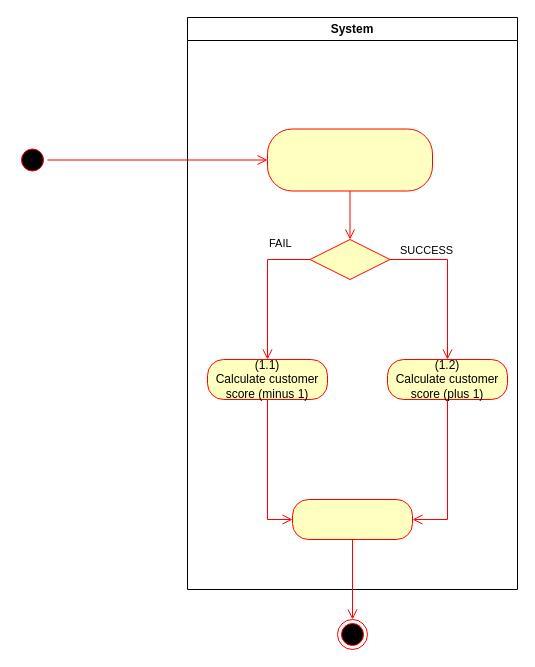
The diagram is 535 pixels wide and 667 high, and some of its shapes have lost their labels. Here are the shapes that lost their labels. From the top down, the centre of each, then its label:
At [349,159]: "(1) While order status change".
At [352,519]: "(2) Push new score to DB".
